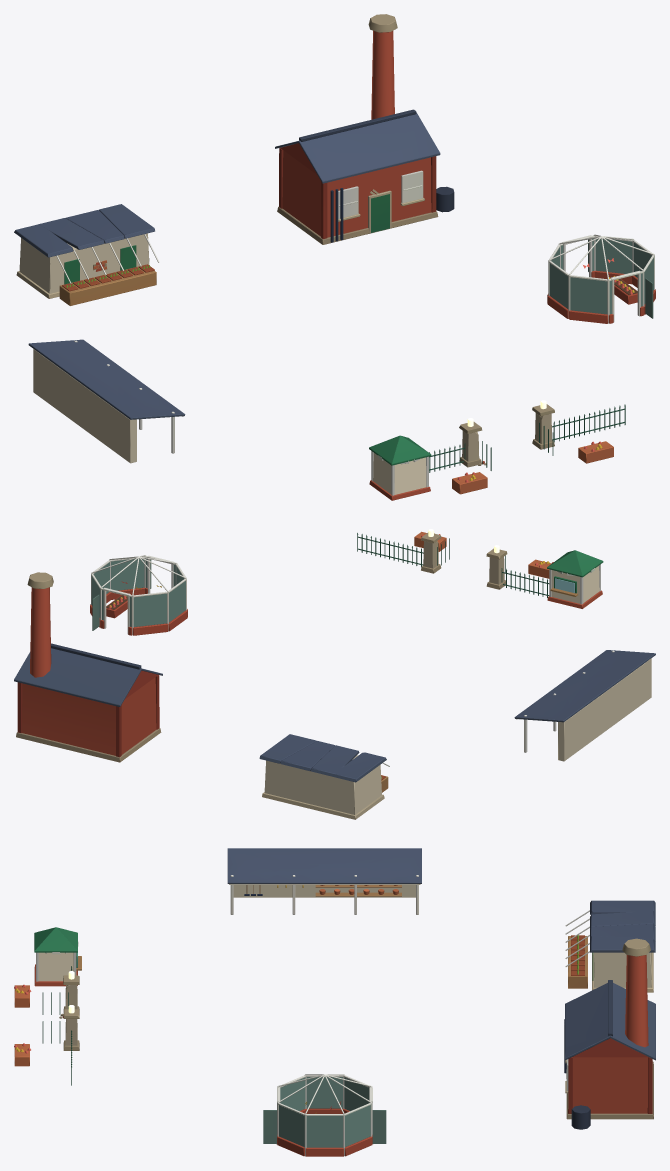
File: garden_annexes.glb
The picture shows the model from 3 angles, top to bottom: view 1: azimuth 30°, elevation 25°; view 2: azimuth 150°, elevation 25°; view 3: azimuth 270°, elevation 25°; orthographic projection. The views are drawn at different scales.
Visible parts, largest first — view 1: garden_annexes; view 2: garden_annexes; view 3: garden_annexes.
Boxes of the visible parts, x1,y1,x2,y2 form: garden_annexes: (14,14,655,500); garden_annexes: (14,529,655,819); garden_annexes: (14,848,655,1156).
Size of the model in its own units: 40.36 by 11.96 by 41.58.
